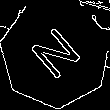N_SE: (24, 20, 87, 85)
